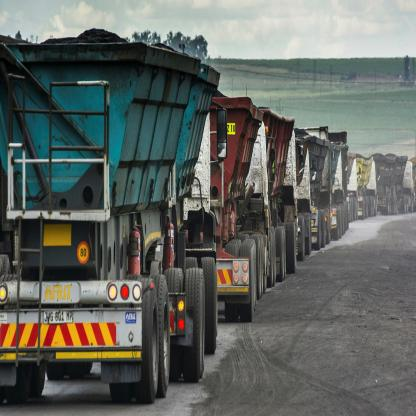dump_truck: (7, 20, 232, 399), (212, 90, 300, 309), (291, 95, 358, 303)
